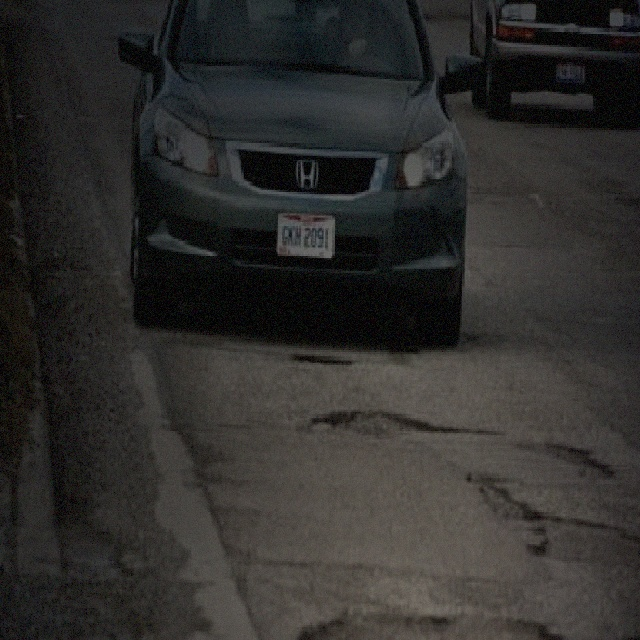pothole: (290, 608, 562, 638), (305, 405, 428, 446)
